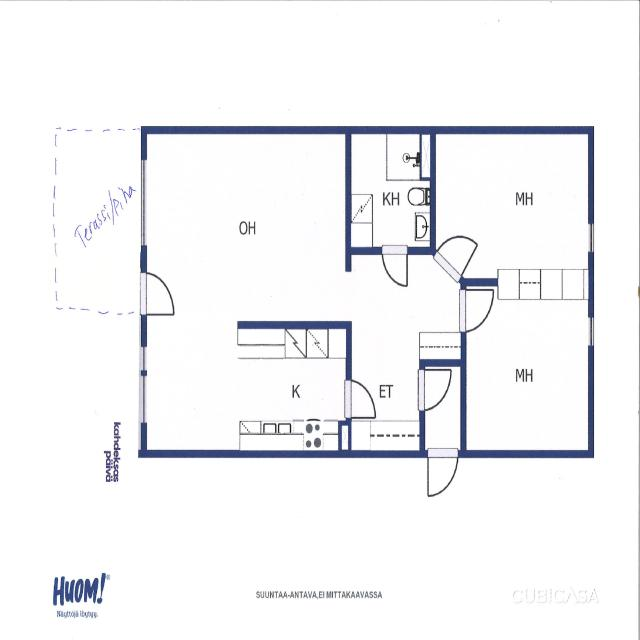door: (434, 216, 479, 282), (141, 273, 176, 315), (428, 450, 457, 498), (461, 290, 495, 330), (420, 370, 453, 410), (346, 380, 377, 418), (383, 247, 407, 289)
